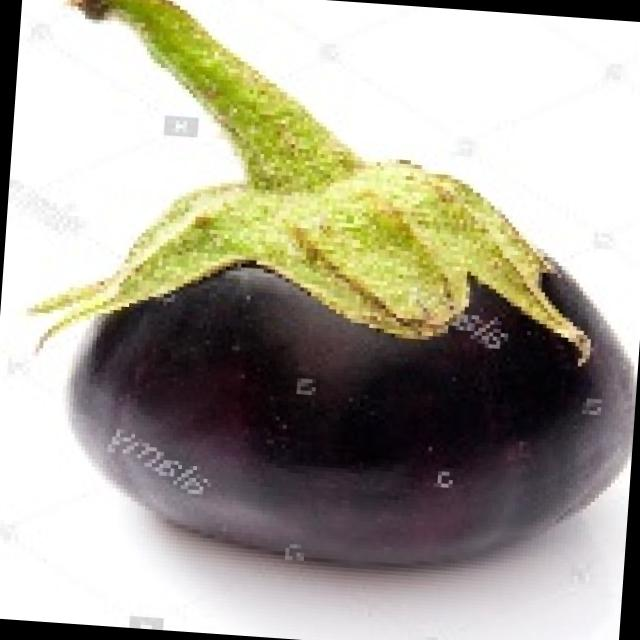eggplant: (43, 156, 640, 583)
